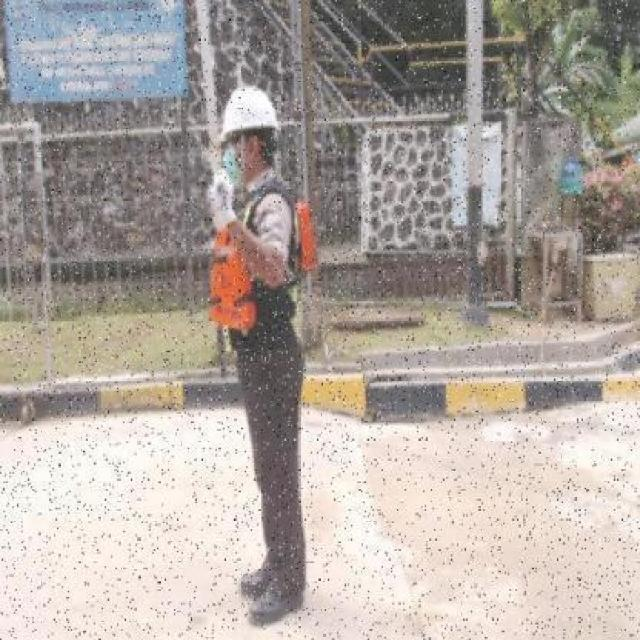Boots: (247, 588, 304, 629), (237, 560, 274, 595)
Gloves: (212, 168, 240, 226)
Helmet: (216, 82, 282, 141)
Mask: (222, 150, 243, 187)
Protective Glasses: (218, 134, 258, 152)
Vest: (208, 197, 318, 331)
